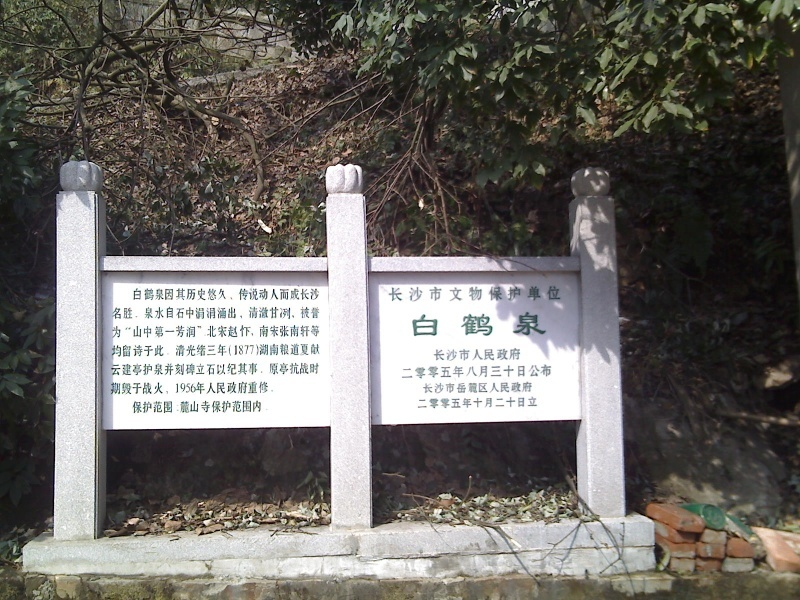text: (417, 313, 432, 338), (433, 313, 448, 338), (449, 313, 464, 338), (465, 313, 480, 338), (481, 313, 496, 338), (497, 313, 512, 338), (513, 313, 528, 338), (529, 313, 544, 338), (401, 286, 416, 302), (417, 286, 432, 302), (433, 286, 448, 302), (449, 286, 464, 302), (465, 286, 480, 302), (481, 286, 496, 302), (497, 286, 512, 302), (513, 286, 528, 302), (529, 286, 544, 302), (545, 286, 560, 302), (401, 364, 416, 380), (417, 364, 432, 380), (433, 364, 448, 380), (449, 364, 464, 380), (465, 364, 480, 380), (481, 364, 496, 380), (497, 364, 512, 380), (513, 364, 528, 380), (529, 364, 544, 380), (113, 381, 128, 396), (129, 381, 144, 396), (145, 381, 160, 396), (161, 381, 176, 396), (177, 381, 192, 396), (193, 381, 208, 396), (209, 381, 224, 396), (225, 381, 240, 396), (241, 381, 256, 396), (257, 381, 272, 396), (449, 348, 464, 363), (465, 348, 480, 363), (481, 348, 496, 363), (497, 348, 512, 363), (417, 396, 432, 411), (433, 396, 448, 411), (449, 396, 464, 411), (465, 396, 480, 411), (481, 396, 496, 411), (497, 396, 512, 411), (513, 396, 528, 411), (305, 325, 321, 339), (305, 344, 321, 358), (145, 288, 160, 302), (161, 288, 176, 302), (177, 288, 192, 302), (193, 288, 208, 302), (209, 288, 224, 302), (225, 288, 240, 302), (241, 288, 256, 302), (257, 288, 272, 302), (273, 288, 288, 302), (289, 288, 304, 302), (305, 288, 320, 302), (113, 325, 128, 339), (129, 325, 144, 339), (145, 325, 160, 339), (161, 325, 176, 339), (177, 325, 192, 339), (193, 325, 208, 339), (209, 325, 224, 339), (225, 325, 240, 339), (241, 325, 256, 339), (257, 325, 272, 339), (273, 325, 288, 339), (289, 325, 304, 339), (113, 344, 128, 358), (129, 344, 144, 358), (145, 344, 160, 358), (161, 344, 176, 358), (177, 344, 192, 358), (193, 344, 208, 358), (209, 344, 224, 358), (225, 344, 240, 358), (241, 344, 256, 358), (257, 344, 272, 358), (273, 344, 288, 358), (289, 344, 304, 358), (434, 348, 448, 363), (433, 381, 448, 395), (449, 381, 464, 395), (465, 381, 480, 395), (481, 381, 496, 395), (497, 381, 512, 395), (513, 381, 528, 395), (113, 307, 128, 320), (129, 307, 144, 320), (145, 307, 160, 320), (161, 307, 176, 320), (177, 307, 192, 320), (193, 307, 208, 320), (209, 307, 224, 320), (225, 307, 240, 320), (241, 307, 256, 320), (257, 307, 272, 320), (273, 307, 288, 320), (289, 307, 304, 320), (305, 307, 320, 320), (113, 363, 128, 376), (129, 363, 144, 376), (145, 363, 160, 376), (161, 363, 176, 376), (177, 363, 192, 376), (193, 363, 208, 376), (209, 363, 224, 376), (225, 363, 240, 376), (241, 363, 256, 376), (257, 363, 272, 376), (273, 363, 288, 376), (289, 363, 304, 376), (305, 363, 320, 376), (145, 401, 160, 414), (161, 401, 176, 414), (177, 401, 192, 414), (193, 401, 208, 414), (209, 401, 224, 414), (225, 401, 240, 414), (241, 401, 256, 414), (389, 286, 400, 302), (410, 313, 416, 338), (529, 396, 539, 411), (133, 401, 144, 414), (134, 288, 144, 302), (513, 348, 522, 363), (545, 364, 553, 380), (423, 381, 432, 395), (545, 313, 549, 338), (257, 401, 263, 414), (529, 381, 534, 395), (561, 286, 563, 302), (273, 381, 275, 396), (111, 325, 112, 339), (111, 344, 112, 358), (111, 307, 112, 320), (111, 363, 112, 376)
